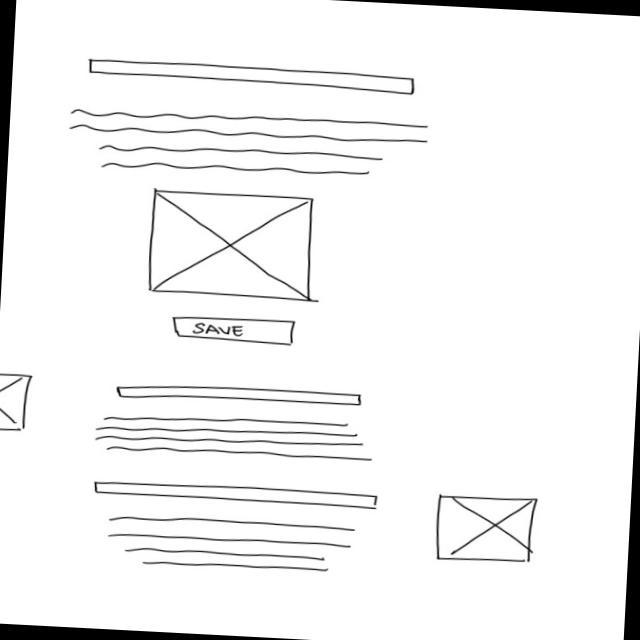image: (145, 188, 321, 305), (435, 492, 542, 568), (1, 372, 35, 434)
input: (88, 58, 417, 96), (93, 479, 380, 513), (116, 381, 366, 413)
textbox: (66, 106, 434, 188), (103, 512, 361, 580), (92, 409, 377, 467)
